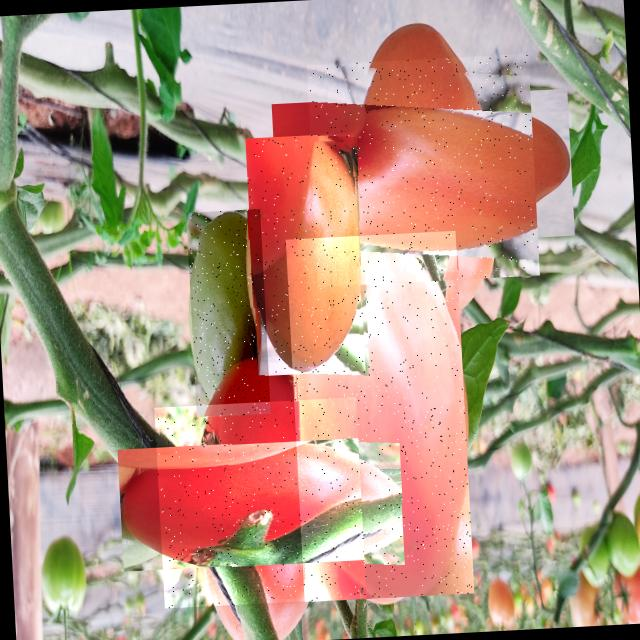Ripe Tomato: (286, 231, 474, 602), (308, 54, 540, 287), (154, 398, 366, 608)
Unripe Tomato: (246, 133, 366, 376), (186, 209, 271, 418)
